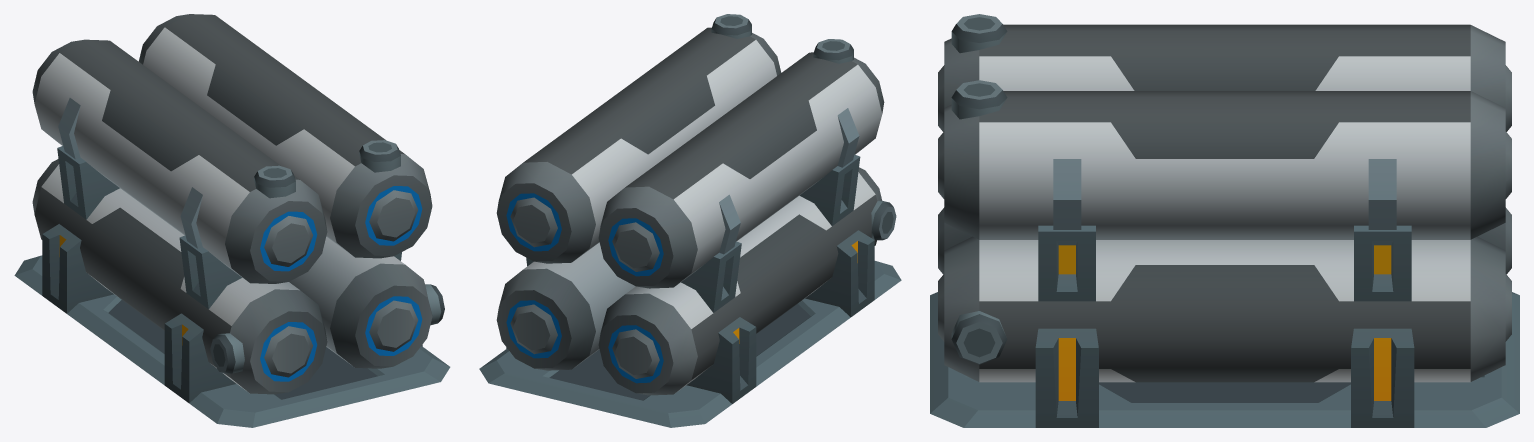
File: Baloon_003.fbx
3 renders of one model, left to right at view 1: azimuth 30°, elevation 25°; view 2: azimuth 150°, elevation 25°; view 3: azimuth 270°, elevation 25°, orthographic. The views are drawn at different scales.
Visible parts, largest first — view 1: Baloon_003; view 2: Baloon_003; view 3: Baloon_003.
Part boxes in pixels (x1,y1,x2,y2): Baloon_003: (14,14,450,427); Baloon_003: (479,14,901,427); Baloon_003: (930,14,1519,427).
Size of the model in its own units: 92.92 by 158 by 87.78.
